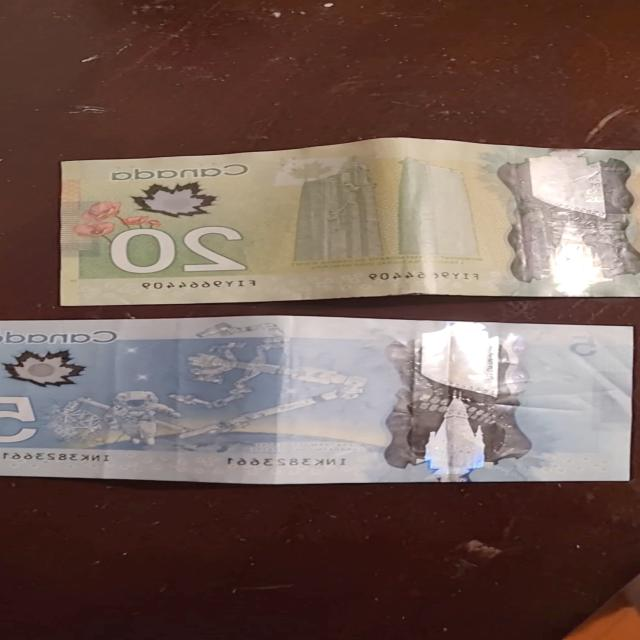20 cad: (59, 148, 640, 308)
5 cad: (1, 324, 628, 484)
